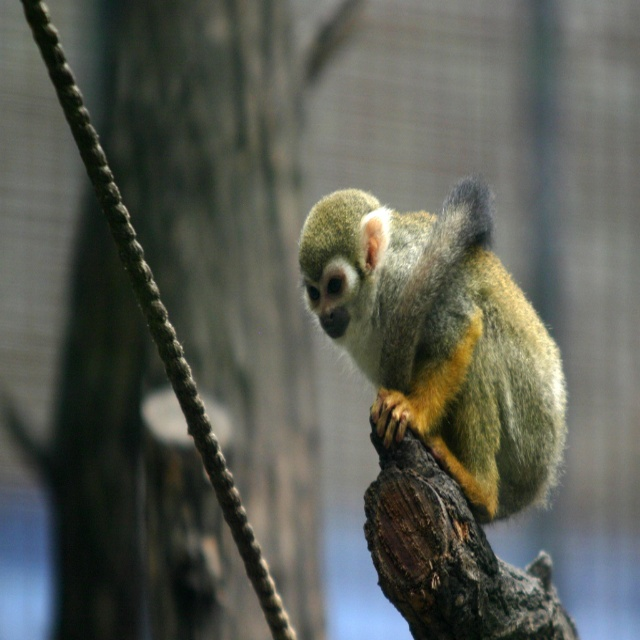Monkey: (294, 167, 570, 529)
